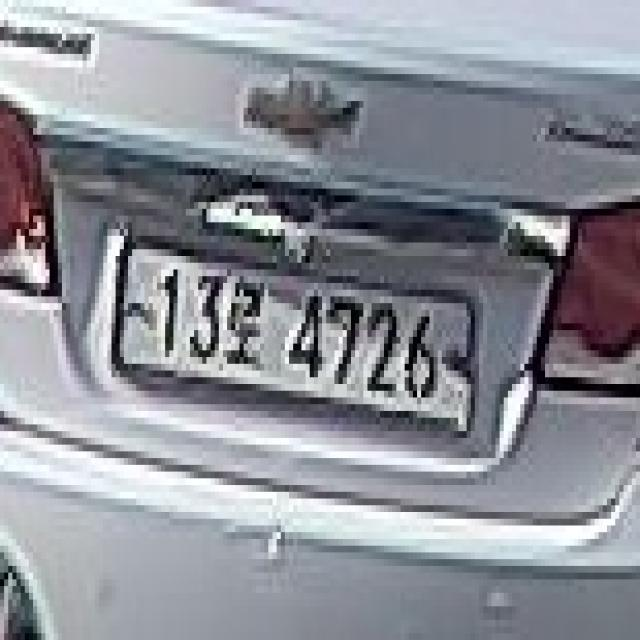1: (148, 262, 186, 370)
2: (368, 296, 404, 418)
3: (186, 270, 227, 370)
4: (285, 283, 326, 397)
6: (400, 303, 442, 411)
7: (322, 283, 368, 404)
license_plate: (103, 229, 479, 451)
lo: (223, 276, 268, 384)
